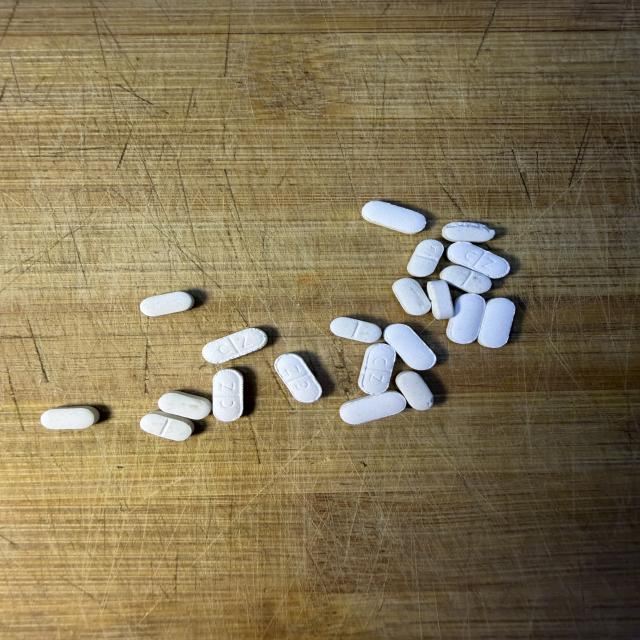pill: (384, 324, 436, 370), (274, 354, 321, 403), (202, 328, 267, 363), (447, 242, 509, 278), (340, 391, 406, 424), (362, 201, 426, 234), (358, 343, 395, 394), (447, 294, 485, 343), (478, 298, 515, 348), (140, 411, 193, 441), (213, 369, 243, 421), (158, 391, 211, 419), (396, 371, 433, 410), (440, 265, 491, 293), (393, 278, 430, 315), (330, 317, 382, 343), (41, 406, 99, 429), (407, 240, 443, 277), (140, 292, 194, 316), (426, 280, 454, 320), (442, 222, 495, 242)
